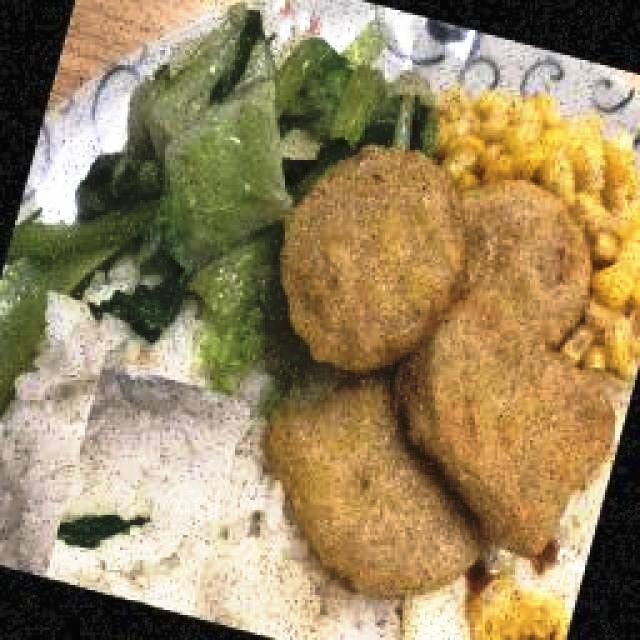Fried Rice: (3, 9, 635, 634)
chicken_nuggets: (407, 292, 613, 551), (269, 378, 483, 596), (281, 149, 468, 368)
chinese_sausage: (261, 141, 618, 598)
